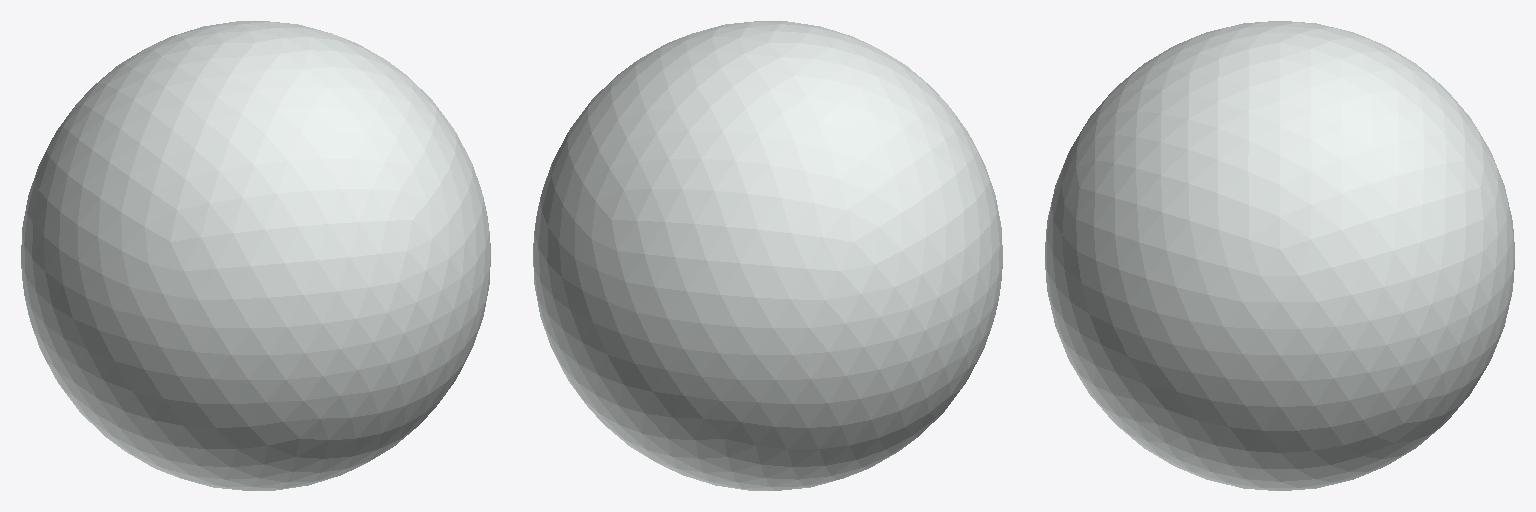
Rendered from geosphere_high.obj.
3 views of the same model, side by side, from view 1: azimuth 30°, elevation 25°; view 2: azimuth 150°, elevation 25°; view 3: azimuth 270°, elevation 25° (orthographic).
Parts seen in each view (by area): view 1: default; view 2: default; view 3: default.
Part boxes in pixels (x1,y1,x2,y2): default: (21, 21, 490, 490); default: (533, 21, 1002, 490); default: (1045, 21, 1514, 490).
Bounding box in the file's own units: 39.77 × 39.77 × 39.77.